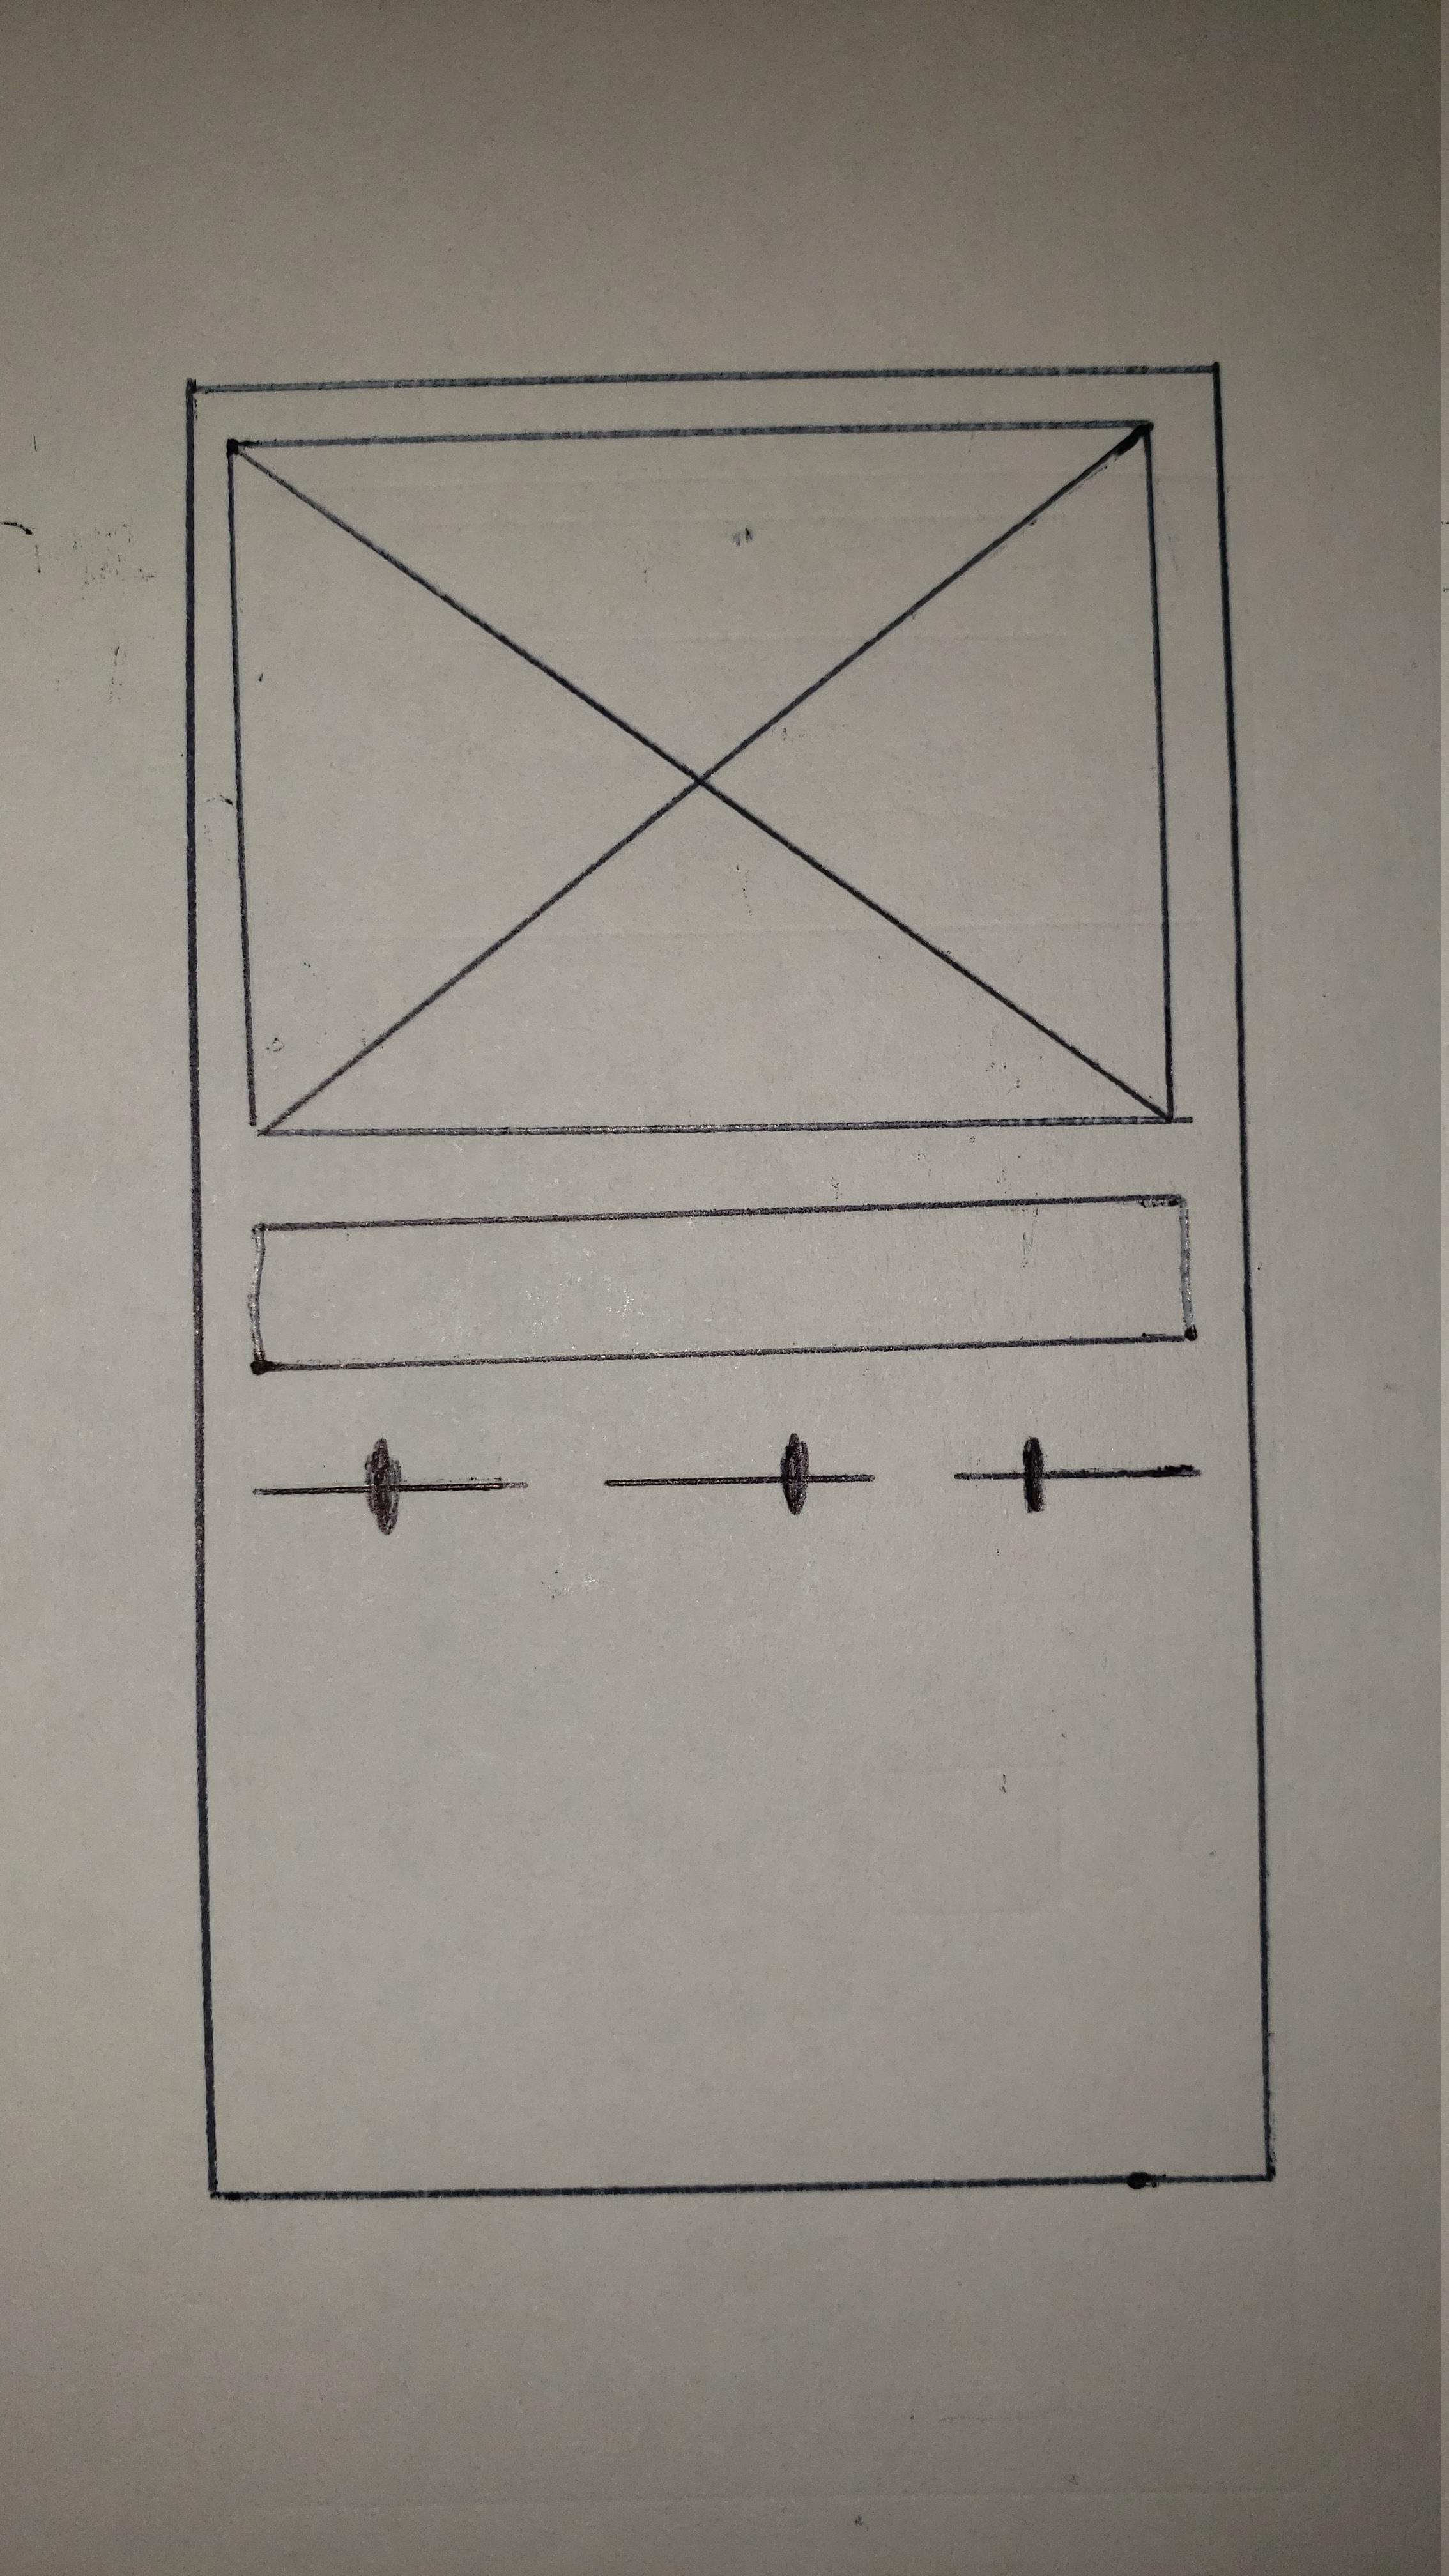Image: (225, 419, 1175, 1138)
Screen: (184, 364, 1274, 2201)
Slider: (253, 1440, 533, 1534), (603, 1435, 876, 1513), (950, 1437, 1201, 1513)
TextBox: (248, 1191, 1194, 1376)
